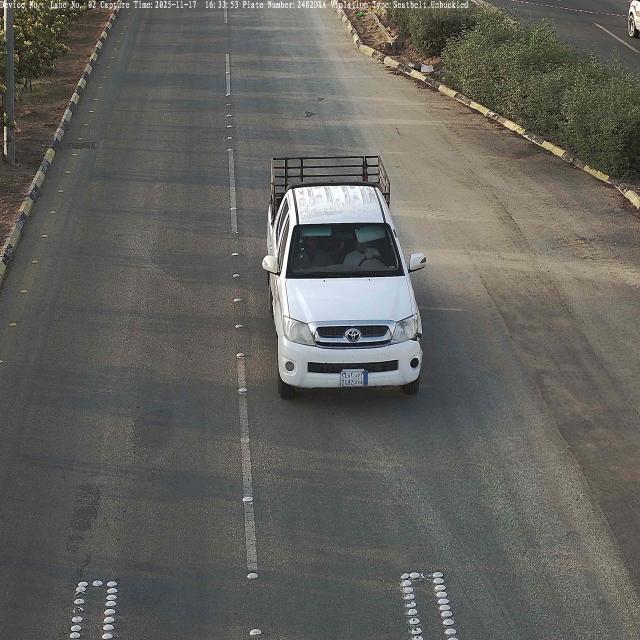person_without_seatbelt: (344, 234, 381, 267)
